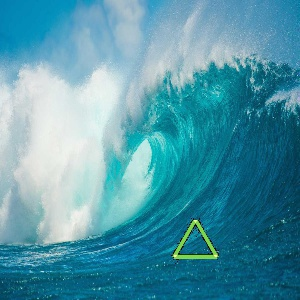triangle: (170, 217, 221, 263)
